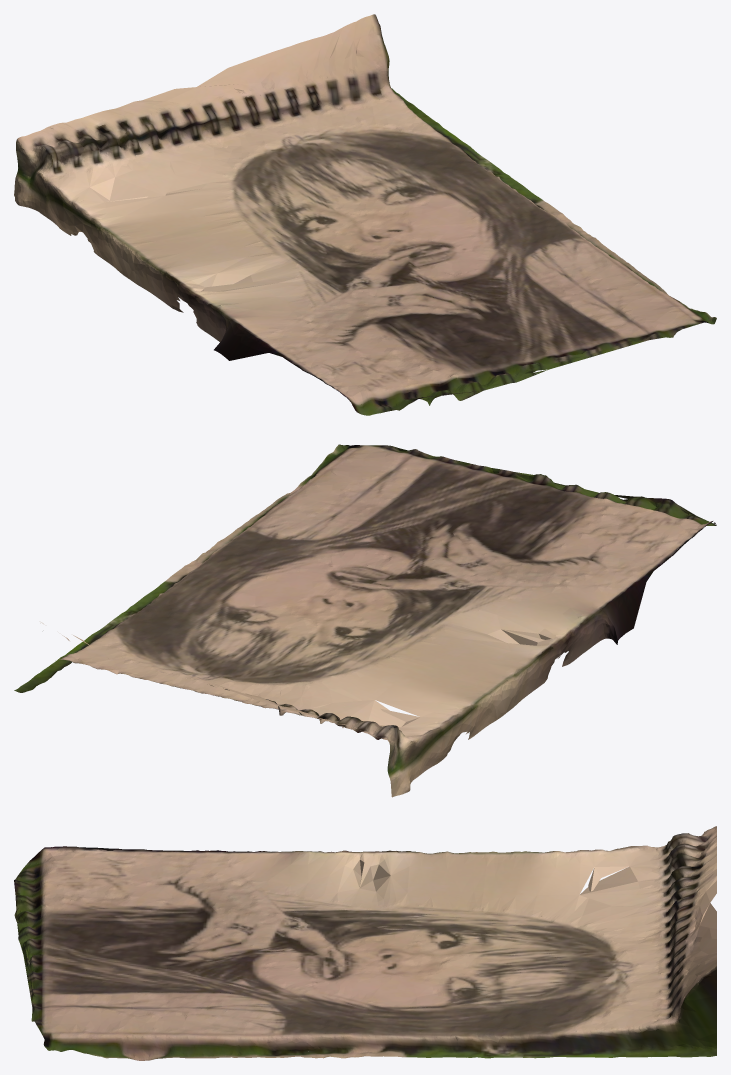
File: Karina.glb
3 views of the same model, one above another, from view 1: azimuth 30°, elevation 25°; view 2: azimuth 150°, elevation 25°; view 3: azimuth 270°, elevation 25° (orthographic). The views are drawn at different scales.
Visible parts, largest first — view 1: mesh; view 2: mesh; view 3: mesh.
Part boxes in pixels (box(x1,y1,x2,y2)): mesh: box(14, 14, 716, 415); mesh: box(14, 444, 716, 797); mesh: box(14, 826, 716, 1060).
Size of the model in its own units: 0.1679 by 0.0382 by 0.2543.
Materials: 1 (1 with a texture image).
